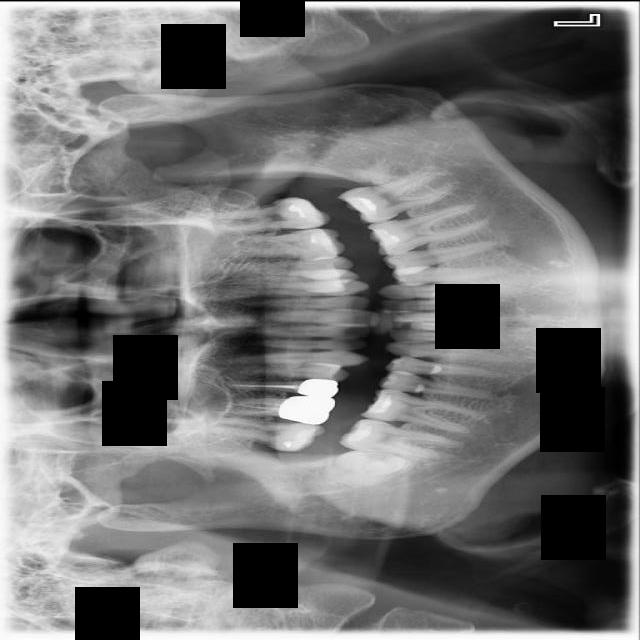52: (277, 369, 339, 428), (358, 376, 415, 435)
73: (206, 394, 284, 416), (220, 378, 300, 391), (563, 34, 572, 40)
BioHorizons Implant: (206, 194, 329, 233)
Blue Sky Bio Implant: (336, 164, 460, 231)
Caries: (201, 415, 326, 453)
Implant: (337, 413, 463, 464)
Keystone Dental Implant: (328, 448, 409, 486)
